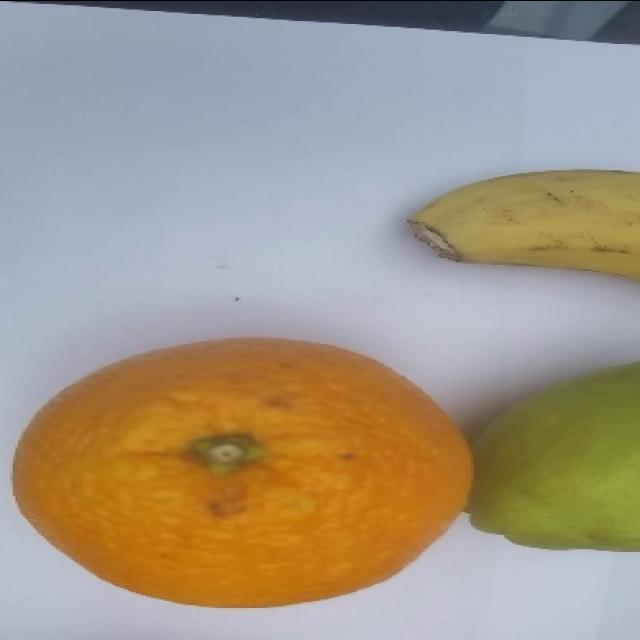Banana: (406, 167, 639, 282)
Orange: (11, 334, 474, 609)
